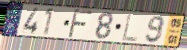1: (43, 8, 54, 37)
4: (21, 7, 39, 36)
8: (94, 11, 114, 41)
9: (144, 15, 166, 44)
F: (66, 8, 94, 39)
L: (120, 13, 139, 43)
